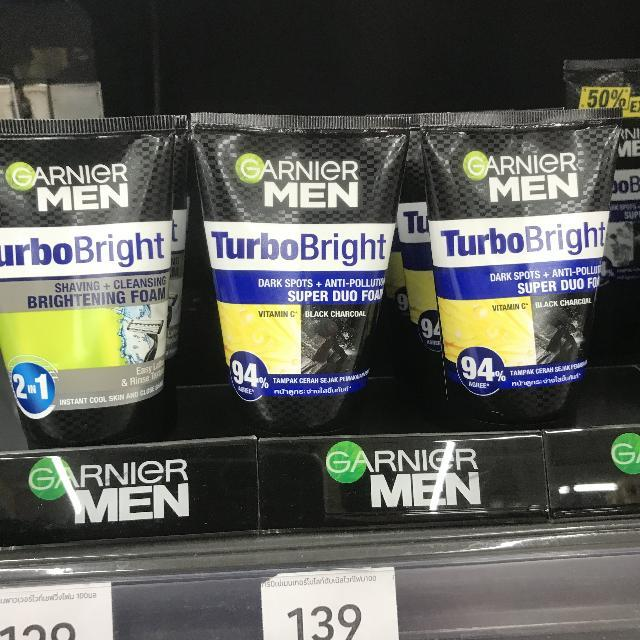Squeeze Tube: (191, 113, 409, 437), (411, 110, 621, 423), (0, 117, 192, 451)
